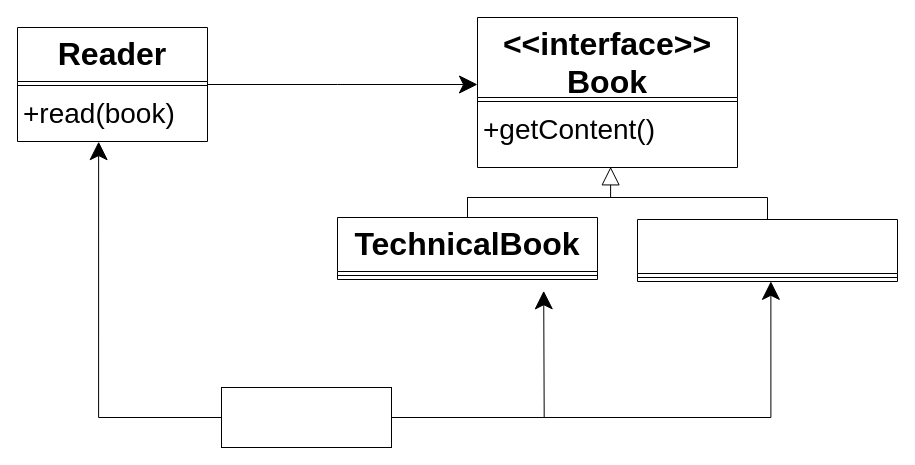
Some shapes in this 915 by 465 pixel diagram are drawn without their labels. The shapes that lost their labels are listed below. From the top down, each one's centre as x and y in pixels, then its label:
the point at 767,250: NovelBook
the point at 306,417: Client
